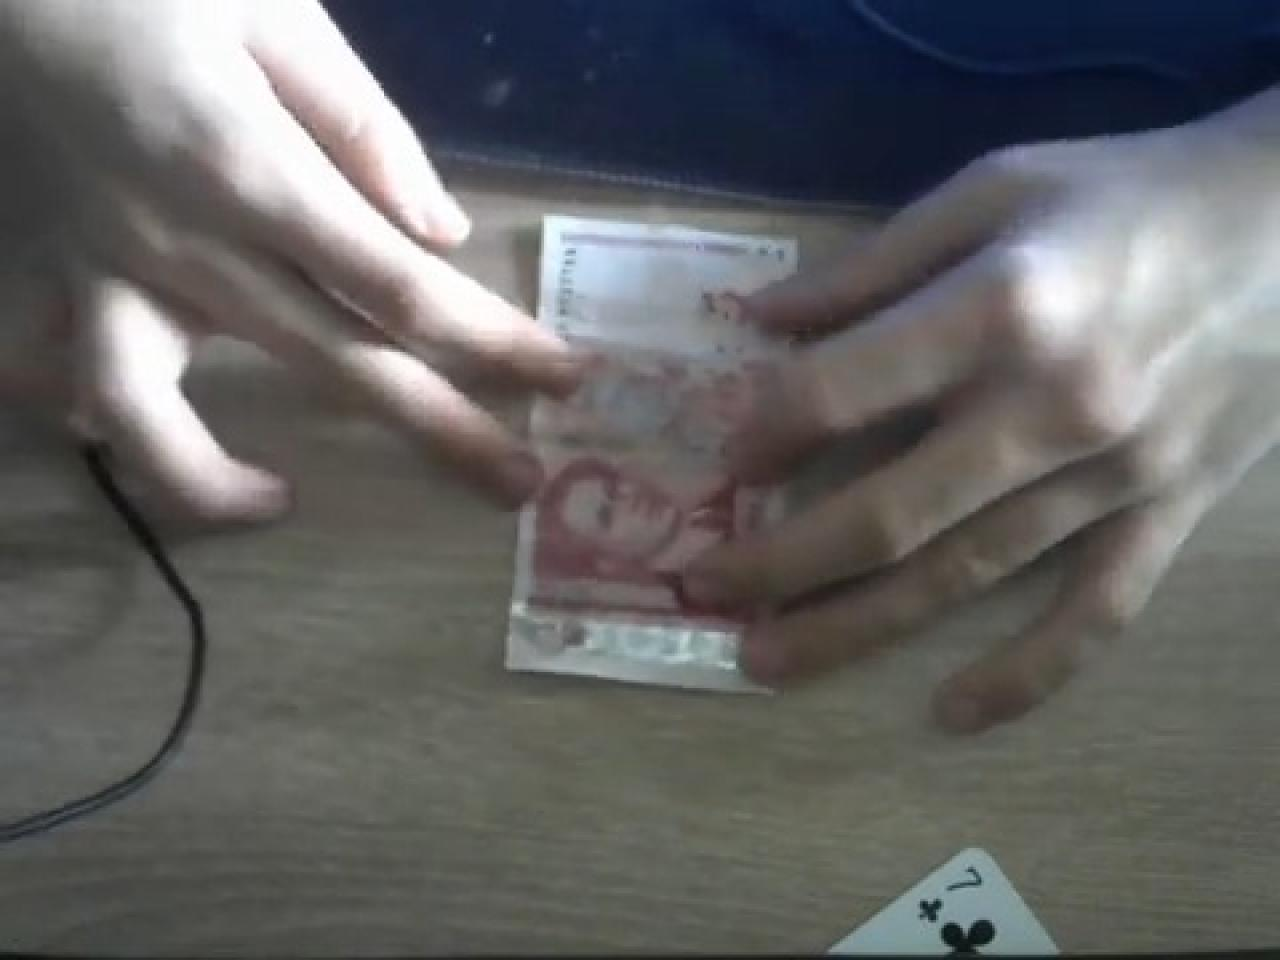5leva: (520, 339, 765, 579)
